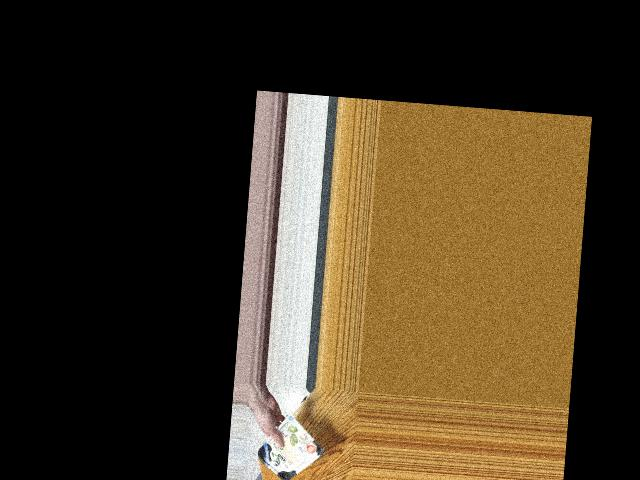cheese: (259, 432, 318, 475)
